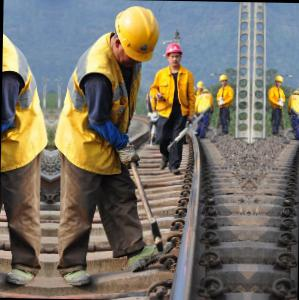helmet: (110, 3, 163, 64), (164, 40, 185, 70), (220, 72, 229, 89), (274, 73, 283, 90), (197, 80, 205, 94), (296, 81, 299, 98)
